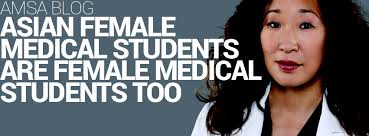asian_female: (252, 1, 343, 107)
